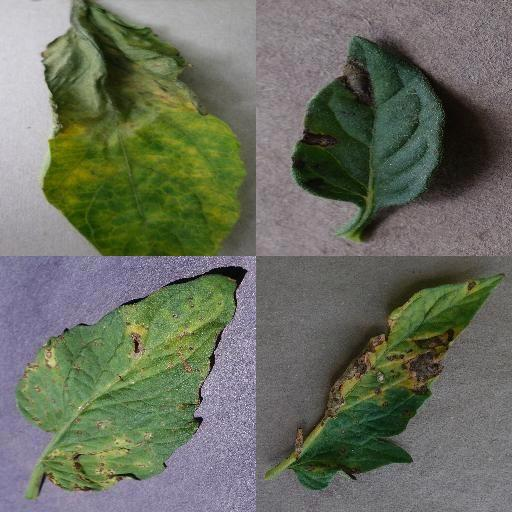Early Blight: (295, 273, 503, 495), (293, 35, 449, 207)
Late Blight: (37, 0, 245, 256)
Septoria: (17, 273, 237, 491)
